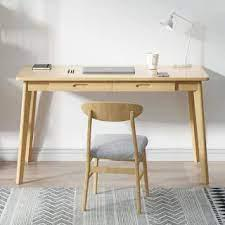desk: (9, 48, 214, 202)
